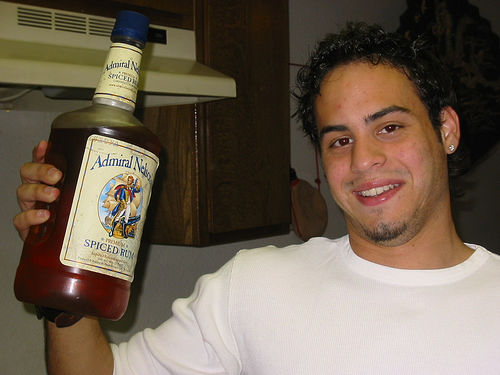without_mask: (312, 63, 459, 240)
